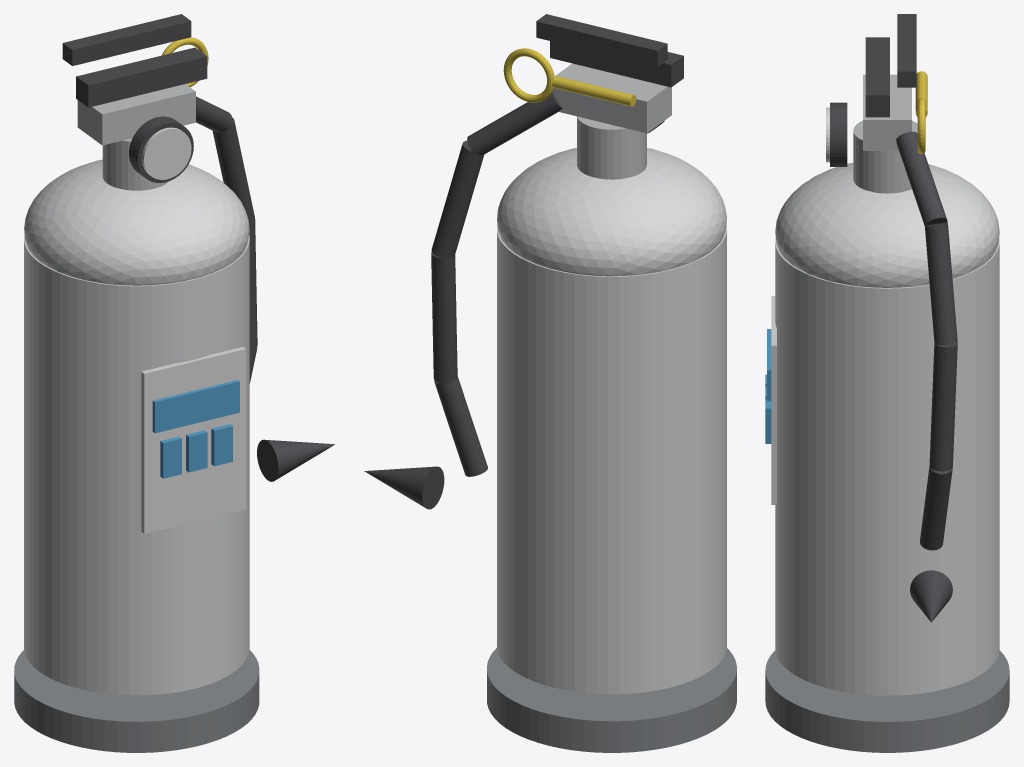
The model's file is extintor-a-agua.glb.
3 renders of one model, left to right at view 1: azimuth 30°, elevation 25°; view 2: azimuth 150°, elevation 25°; view 3: azimuth 270°, elevation 25°, orthographic. The views are drawn at different scales.
Visible parts, largest first — view 1: cuerpo, hombro, base, etiqueta, manija, valvula, palanca, franja_azul, manometro_cara, boquilla, manguera_1, cuello (+6 smaller); view 2: cuerpo, hombro, base, valvula, cuello, palanca, manguera_2, manguera_1, manija, manguera_3, manguera_0, boquilla (+2 smaller); view 3: cuerpo, hombro, base, manguera_2, manguera_1, cuello, valvula, manguera_0, manija, manguera_3, boquilla, palanca (+4 smaller).
Boxes of the visible parts, left/top/right/bottom form: cuerpo: left=24, top=234, right=249, bottom=695; hombro: left=24, top=159, right=249, bottom=285; base: left=14, top=650, right=259, bottom=752; etiqueta: left=141, top=347, right=246, bottom=533; manija: left=76, top=47, right=207, bottom=107; valvula: left=77, top=84, right=195, bottom=145; palanca: left=62, top=14, right=191, bottom=65; franja_azul: left=152, top=380, right=239, bottom=433; manometro_cara: left=142, top=127, right=191, bottom=179; boquilla: left=257, top=439, right=334, bottom=481; manguera_1: left=212, top=117, right=254, bottom=223; cuello: left=102, top=138, right=168, bottom=190; cuerpo: left=497, top=224, right=726, bottom=694; hombro: left=497, top=148, right=726, bottom=276; base: left=487, top=648, right=736, bottom=752; valvula: left=552, top=63, right=671, bottom=133; cuello: left=577, top=116, right=646, bottom=179; palanca: left=536, top=14, right=667, bottom=67; manguera_2: left=431, top=251, right=457, bottom=383; manguera_1: left=431, top=140, right=483, bottom=258; manija: left=550, top=41, right=683, bottom=87; manguera_3: left=434, top=376, right=487, bottom=476; manguera_0: left=467, top=92, right=562, bottom=155; boquilla: left=364, top=466, right=444, bottom=509; cuerpo: left=775, top=238, right=999, bottom=695; hombro: left=775, top=162, right=999, bottom=287; base: left=765, top=650, right=1009, bottom=752; manguera_2: left=929, top=342, right=957, bottom=471; manguera_1: left=924, top=222, right=957, bottom=344; cuello: left=853, top=120, right=917, bottom=193; valvula: left=863, top=74, right=911, bottom=150; manguera_0: left=896, top=131, right=947, bottom=226; manija: left=865, top=37, right=889, bottom=117; manguera_3: left=920, top=466, right=952, bottom=550; boquilla: left=910, top=570, right=952, bottom=622; palanca: left=897, top=14, right=916, bottom=87.
Bounding box in the file's own units: 0.385 × 0.744 × 0.25.
